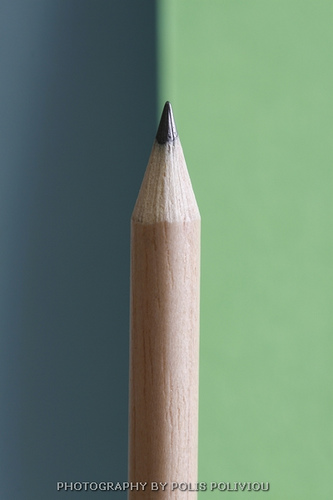pen_tip: (126, 90, 212, 240)
